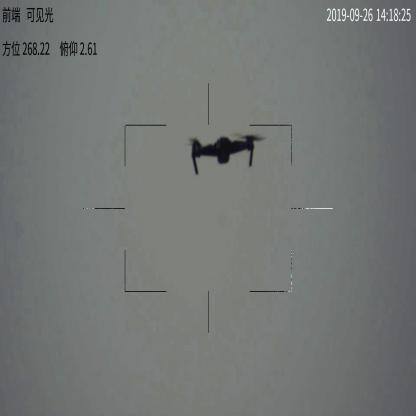uav: (181, 127, 269, 178)
